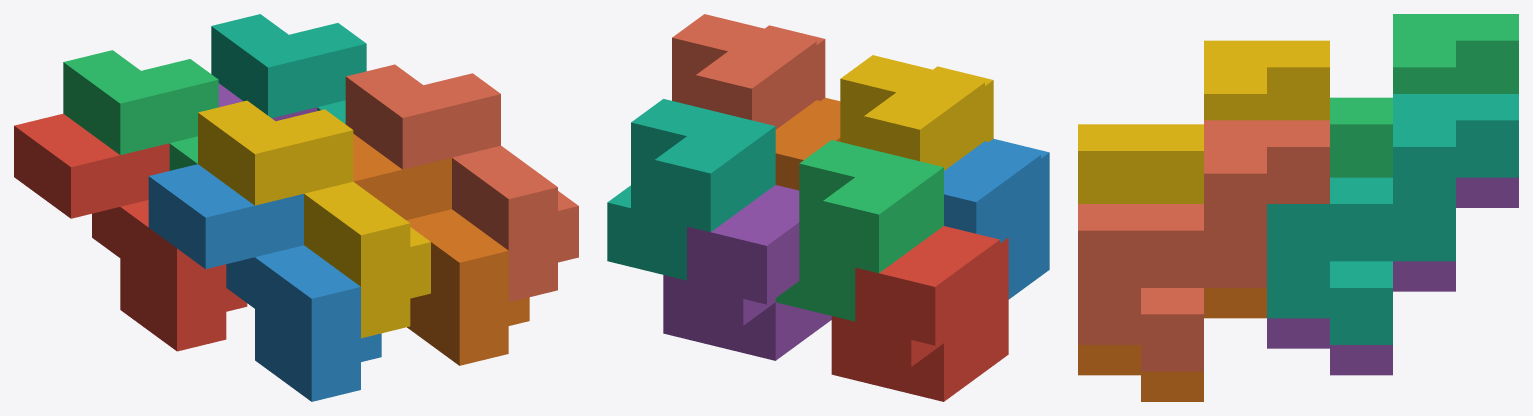
File: tiling.obj
The picture shows the model from 3 angles, left to right: view 1: azimuth 30°, elevation 25°; view 2: azimuth 150°, elevation 25°; view 3: azimuth 270°, elevation 25°; orthographic projection. The views are drawn at different scales.
Visible parts, largest first — view 1: copy_1_domain_2, copy_1_domain_4, copy_1_domain_8, copy_1_domain_1, copy_1_domain_6, copy_1_domain_3, copy_1_domain_7, copy_1_domain_5; view 2: copy_1_domain_1, copy_1_domain_7, copy_1_domain_3, copy_1_domain_5, copy_1_domain_4, copy_1_domain_8, copy_1_domain_2, copy_1_domain_6; view 3: copy_1_domain_8, copy_1_domain_7, copy_1_domain_4, copy_1_domain_3, copy_1_domain_5, copy_1_domain_6.
Boxes of the visible parts, x1=… form: copy_1_domain_2: x1=148, y1=164, x2=381, y2=401; copy_1_domain_4: x1=198, y1=100, x2=430, y2=338; copy_1_domain_8: x1=345, y1=64, x2=578, y2=302; copy_1_domain_1: x1=14, y1=113, x2=247, y2=351; copy_1_domain_6: x1=353, y1=134, x2=529, y2=365; copy_1_domain_3: x1=63, y1=50, x2=218, y2=170; copy_1_domain_7: x1=211, y1=14, x2=366, y2=123; copy_1_domain_5: x1=218, y1=83, x2=317, y2=121; copy_1_domain_1: x1=831, y1=226, x2=1008, y2=401; copy_1_domain_7: x1=607, y1=99, x2=775, y2=280; copy_1_domain_3: x1=775, y1=140, x2=943, y2=321; copy_1_domain_5: x1=663, y1=185, x2=831, y2=360; copy_1_domain_4: x1=840, y1=55, x2=993, y2=170; copy_1_domain_8: x1=672, y1=14, x2=825, y2=129; copy_1_domain_2: x1=944, y1=138, x2=1049, y2=299; copy_1_domain_6: x1=775, y1=97, x2=840, y2=190; copy_1_domain_8: x1=1078, y1=120, x2=1329, y2=371; copy_1_domain_7: x1=1267, y1=94, x2=1518, y2=344; copy_1_domain_4: x1=1078, y1=40, x2=1329, y2=203; copy_1_domain_3: x1=1330, y1=14, x2=1518, y2=177; copy_1_domain_5: x1=1267, y1=177, x2=1518, y2=375; copy_1_domain_6: x1=1078, y1=288, x2=1266, y2=401.
Size of the model in its own units: 8 by 4 by 7.
